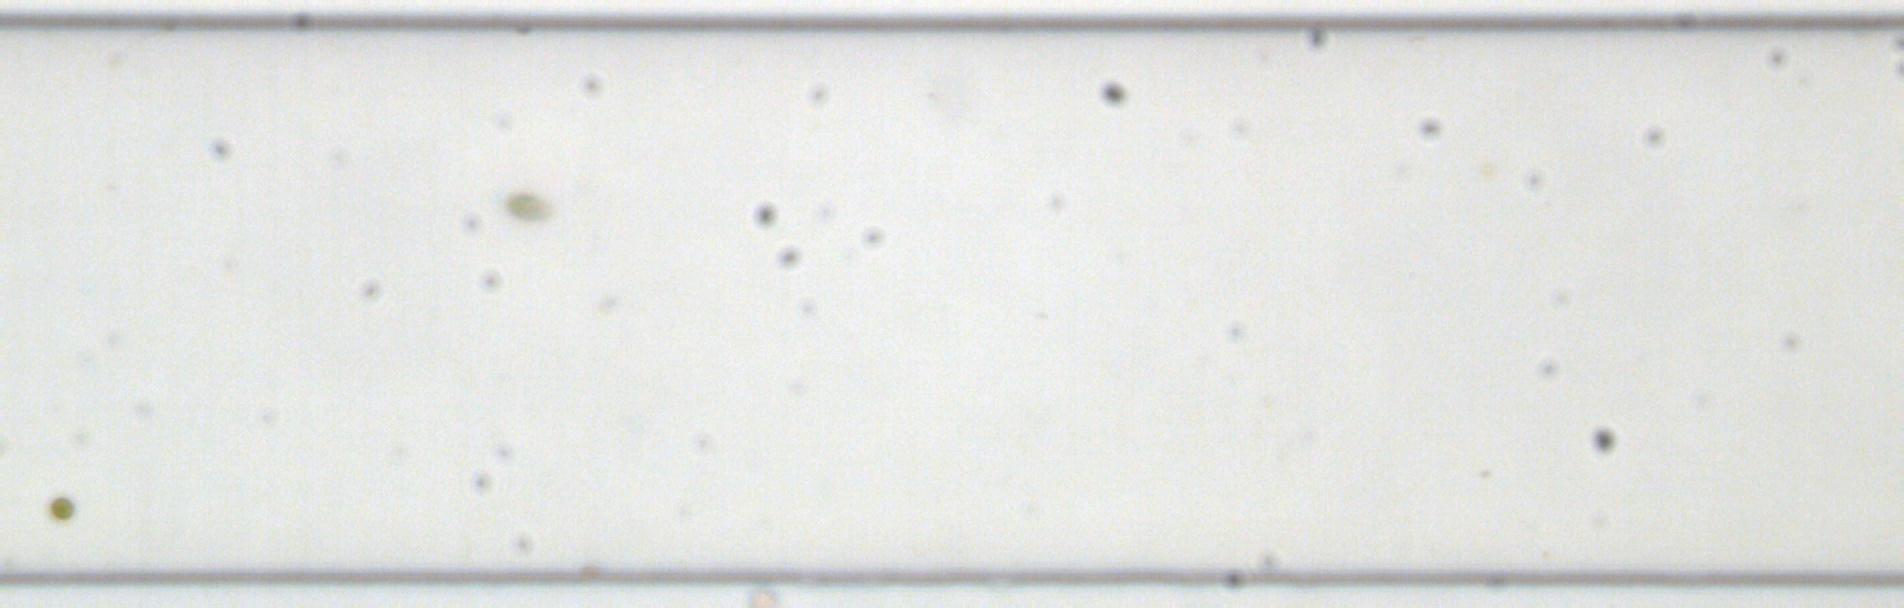Chlorella: (47, 494, 75, 521)
Dunaliella salina: (501, 191, 552, 225)
